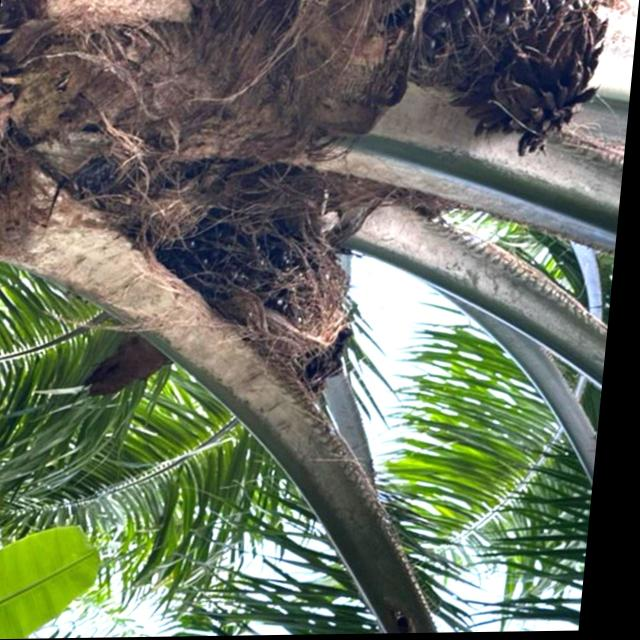unripe: (119, 162, 388, 405)
